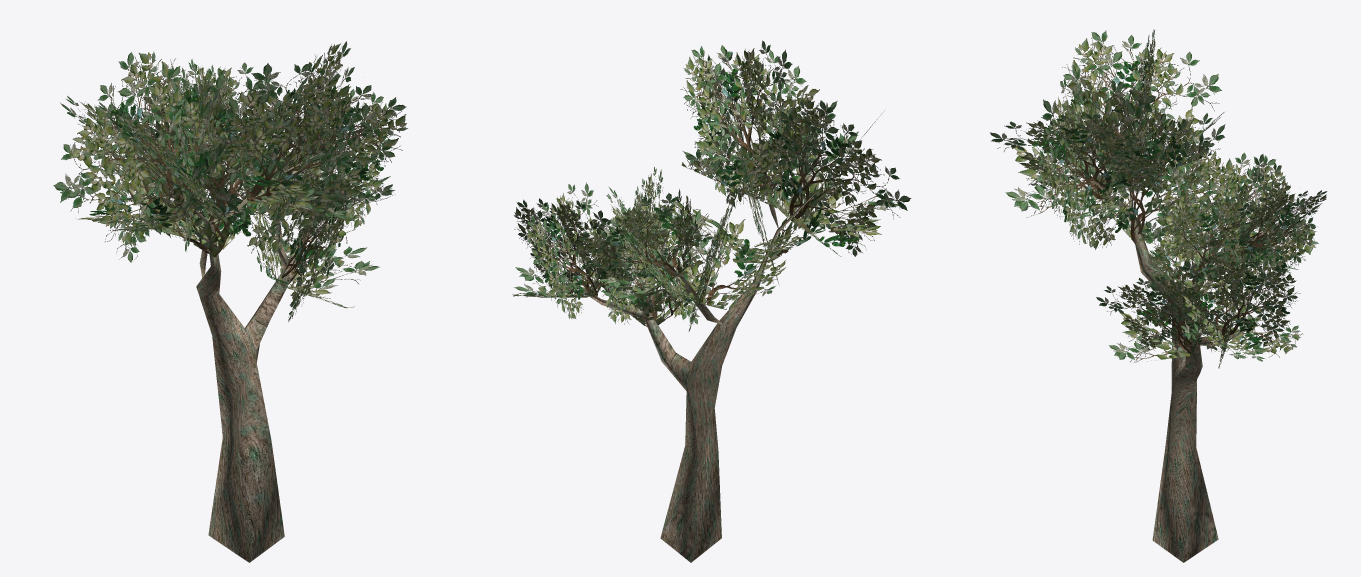
The model's file is decd_dogwoodtreeleaves_l1.fbx.
3 renders of one model, left to right at view 1: azimuth 30°, elevation 25°; view 2: azimuth 150°, elevation 25°; view 3: azimuth 270°, elevation 25°, orthographic. The views are drawn at different scales.
Parts seen in each view (by area): view 1: mesh_node; view 2: mesh_node; view 3: mesh_node.
Part boxes in pixels (bbox=[...]): mesh_node: bbox=[53, 41, 407, 562]; mesh_node: bbox=[512, 40, 911, 562]; mesh_node: bbox=[990, 29, 1327, 562].
Bounding box in the file's own units: 12.69 × 15.71 × 10.86.
